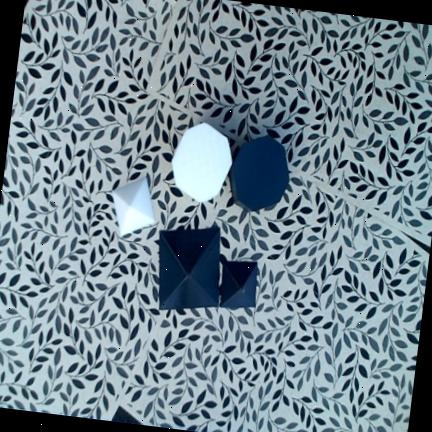Piramide: (159, 227, 220, 309), (111, 175, 154, 236), (219, 260, 257, 308)
Prisma_hexagonal: (171, 122, 231, 202), (228, 134, 289, 210)
